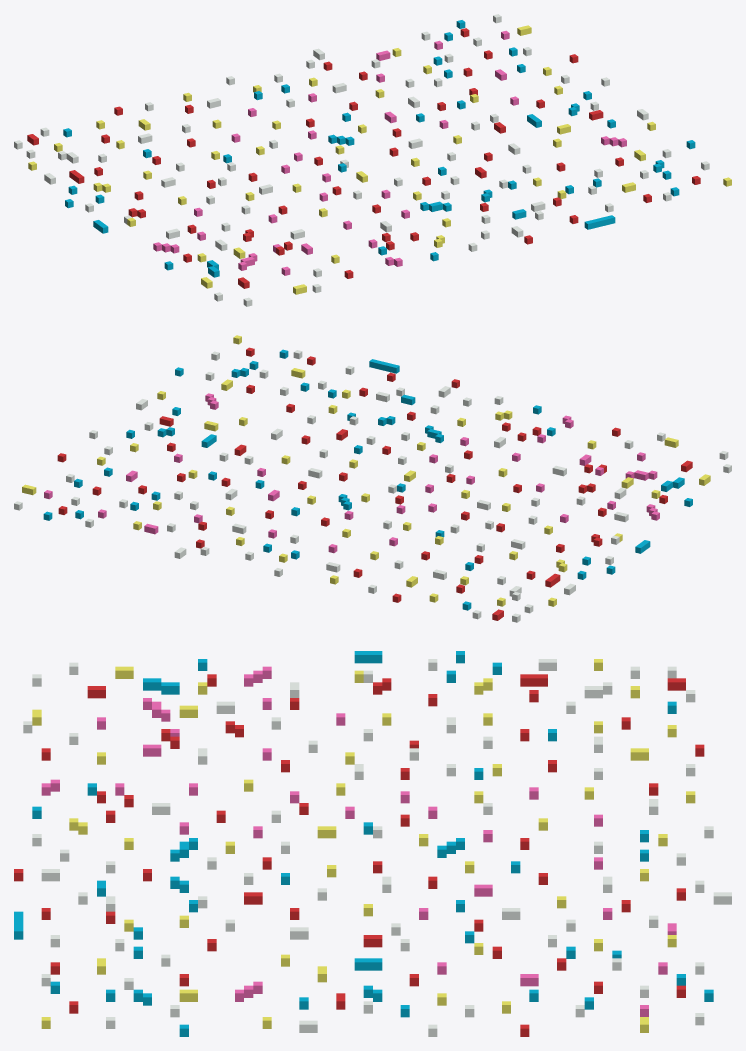
File: Eruption-3.obj
3 renders of one model, top to bottom at view 1: azimuth 30°, elevation 25°; view 2: azimuth 150°, elevation 25°; view 3: azimuth 270°, elevation 25°, orthographic. The views are drawn at different scales.
Size of the model in its own units: 9.7 by 0.1 by 7.8.
1 material, 1 textured.
